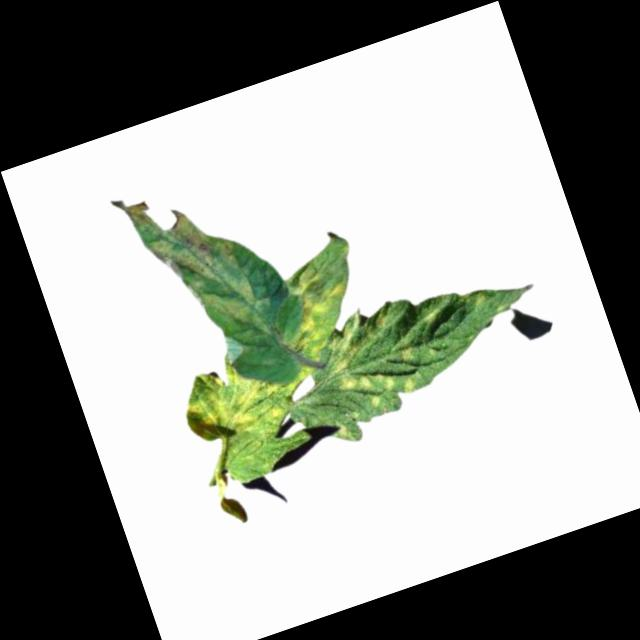Leaf_Mold: (117, 168, 281, 372), (314, 302, 427, 424), (174, 345, 298, 449), (268, 251, 367, 364)
